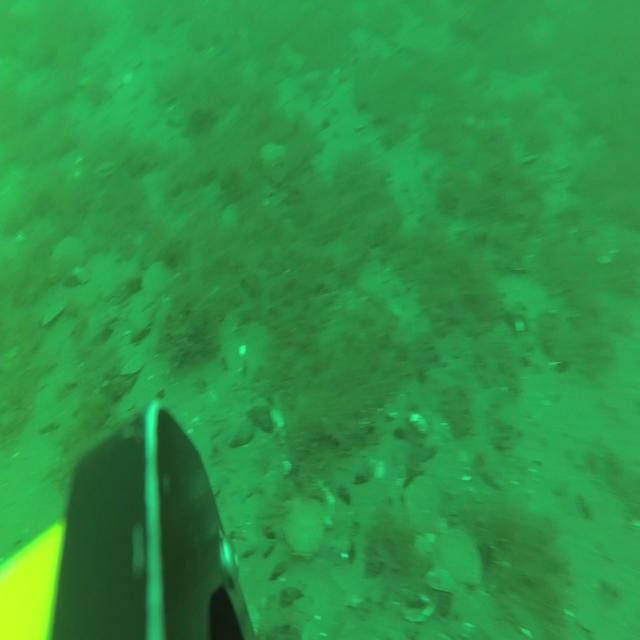scallop: (425, 526, 483, 594), (400, 472, 444, 534), (281, 500, 327, 559), (48, 233, 86, 277), (260, 139, 289, 172)
